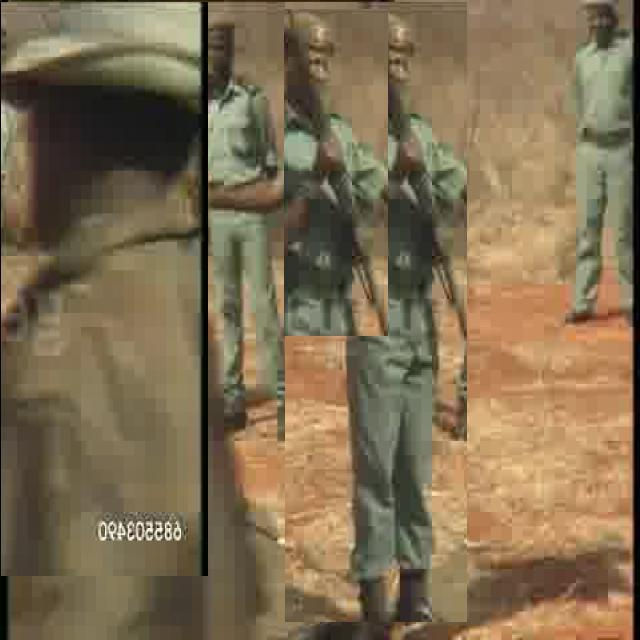poacher: (1, 2, 208, 576), (285, 2, 467, 622), (197, 6, 308, 428), (556, 2, 640, 356)
weapon: (284, 9, 388, 336)
